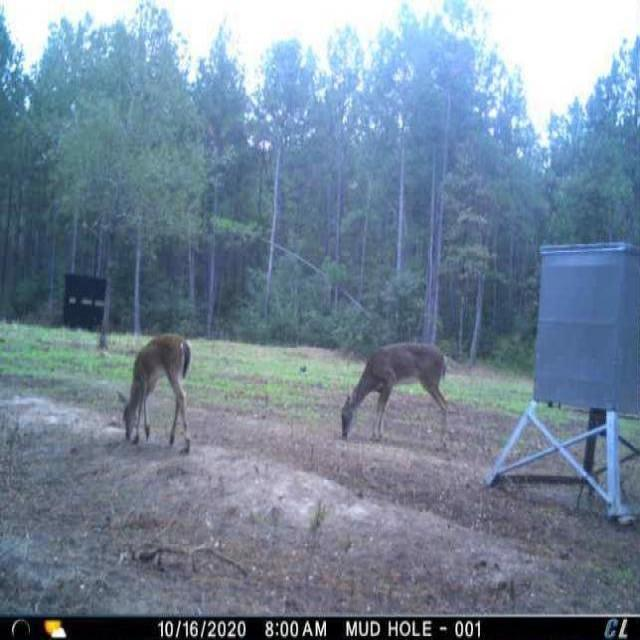deer: (341, 337, 454, 450), (118, 334, 196, 461)
